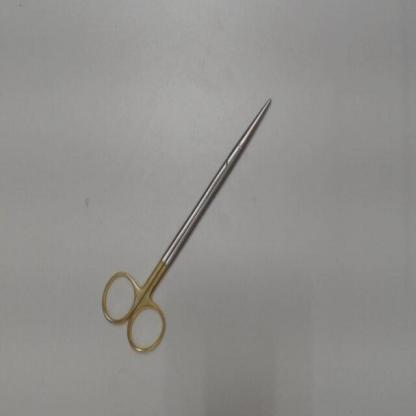7 Metzenbaum Scissors: (96, 90, 278, 362)
